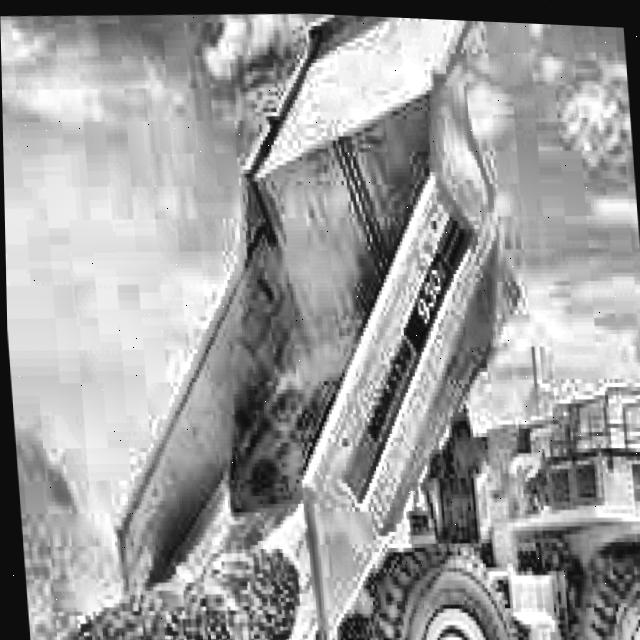dump_truck: (48, 2, 640, 640)
